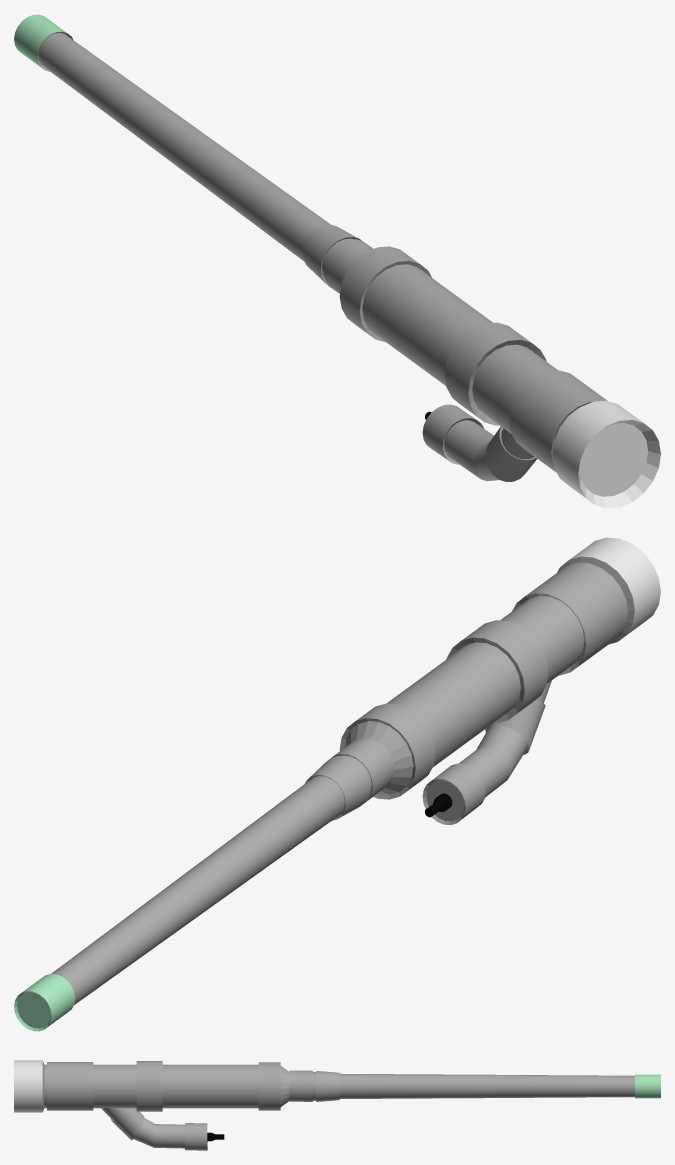
File: potatocolor.fbx
The picture shows the model from 3 angles, top to bottom: view 1: azimuth 30°, elevation 25°; view 2: azimuth 150°, elevation 25°; view 3: azimuth 270°, elevation 25°; orthographic projection. The views are drawn at different scales.
Parts seen in each view (by area): view 1: pCylinder1, pCylinder2; view 2: pCylinder1, pCylinder2; view 3: pCylinder1, pCylinder2.
Part boxes in pixels (box(x1,y1,x2,y2)): pCylinder1: box(14, 14, 660, 508); pCylinder2: box(422, 404, 537, 481); pCylinder1: box(14, 537, 660, 1031); pCylinder2: box(422, 680, 551, 825); pCylinder1: box(14, 1060, 660, 1112); pCylinder2: box(101, 1108, 224, 1150).
Size of the model in its own units: 2.62 by 4.76 by 32.11.
